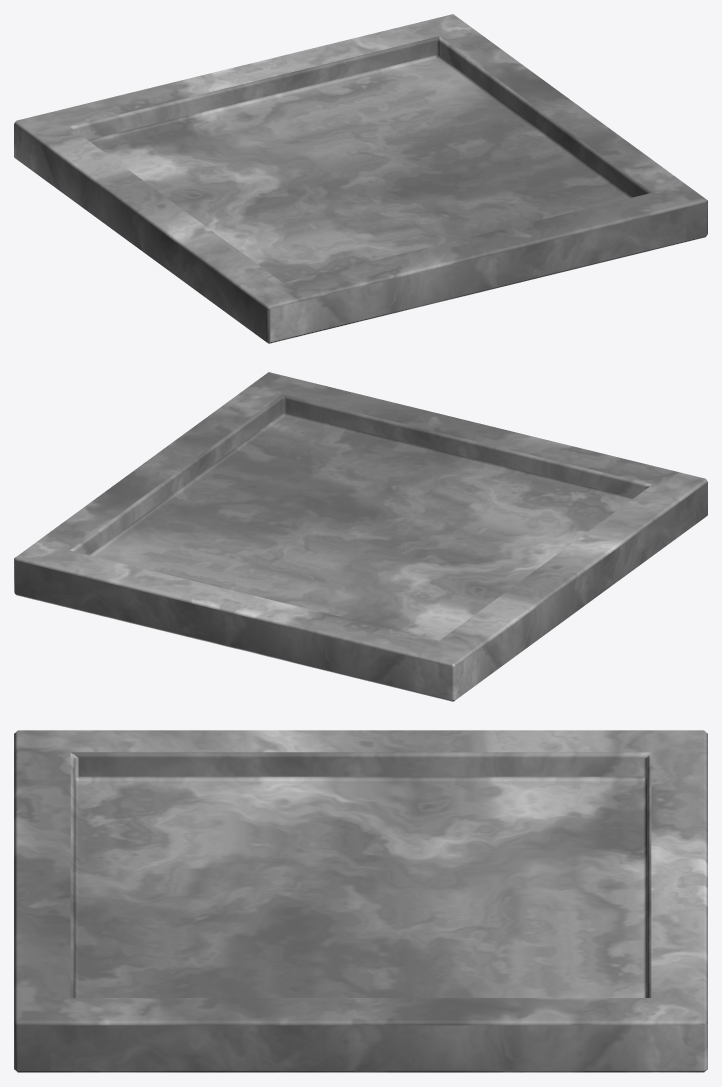
Rendered from SM_garden_small.fbx.
The picture shows the model from 3 angles, top to bottom: view 1: azimuth 30°, elevation 25°; view 2: azimuth 150°, elevation 25°; view 3: azimuth 270°, elevation 25°; orthographic projection. The views are drawn at different scales.
Parts seen in each view (by area): view 1: SM_garden_small; view 2: SM_garden_small; view 3: SM_garden_small.
Part boxes in pixels (x1,y1,x2,y2): SM_garden_small: (14,14,707,343); SM_garden_small: (14,372,707,701); SM_garden_small: (14,730,707,1072).
Bounding box in the file's own units: 171 × 171 × 14.32.
2 materials, 2 textured.
